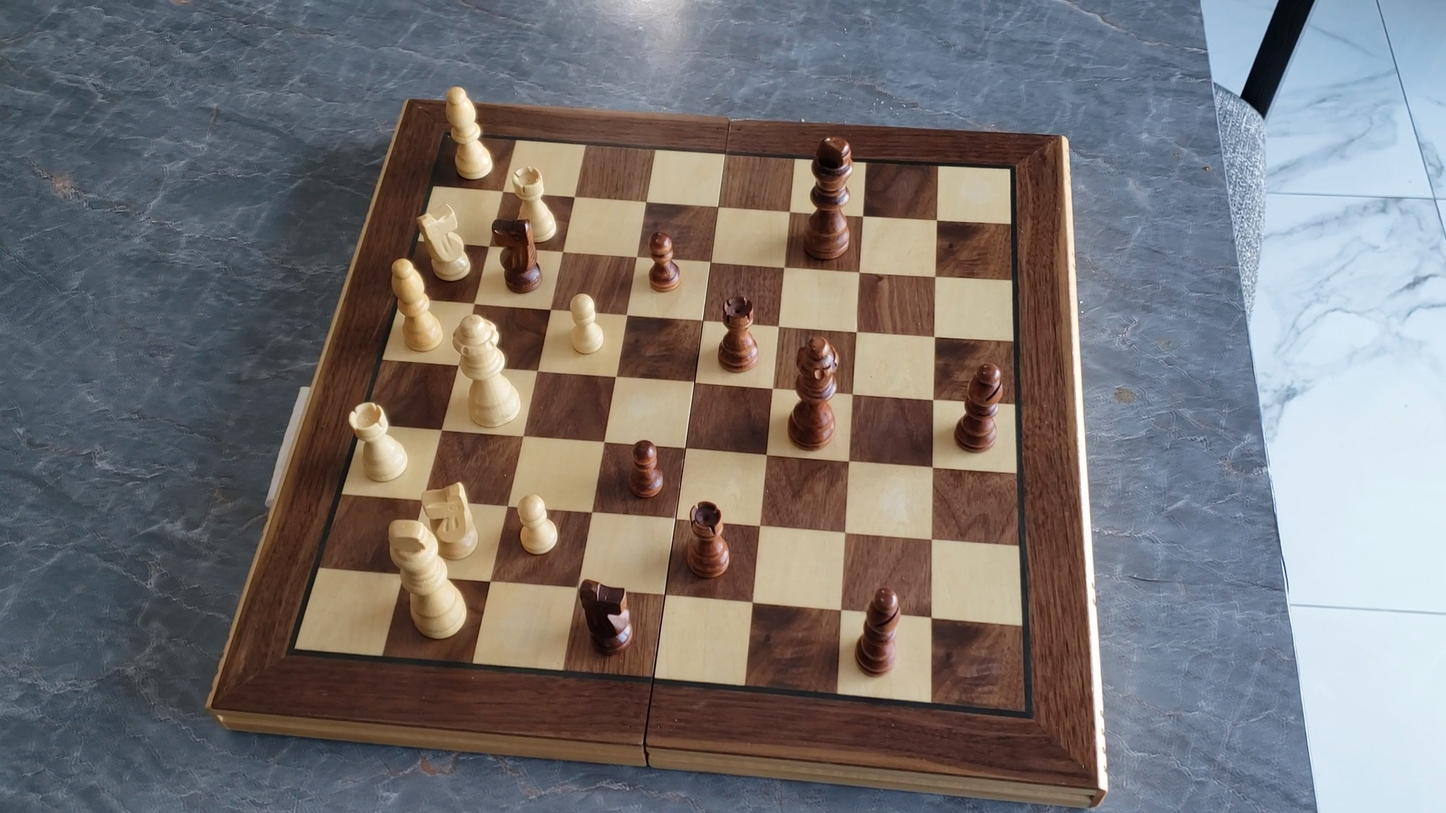black-bishop: (953, 360, 1007, 454), (852, 584, 905, 679)
black-king: (802, 131, 859, 263)
black-knight: (576, 577, 637, 658), (494, 216, 545, 294)
black-pawn: (626, 435, 667, 502), (645, 226, 683, 294)
black-queen: (788, 333, 843, 451)
black-rook: (683, 499, 733, 582), (715, 293, 760, 374)
white-bishop: (385, 255, 448, 355), (442, 81, 496, 183)
white-king: (383, 517, 474, 643)
white-knight: (416, 478, 483, 562), (418, 199, 473, 284)
white-pawn: (512, 491, 563, 558), (563, 289, 610, 359)
white-queen: (449, 312, 526, 431)
white-rook: (345, 399, 412, 486), (508, 162, 563, 248)
